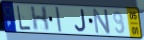9: (112, 10, 126, 36)
H: (30, 6, 51, 32)
I: (54, 6, 63, 33)
J: (74, 8, 87, 33)
L: (16, 4, 32, 31)
N: (91, 8, 111, 35)
